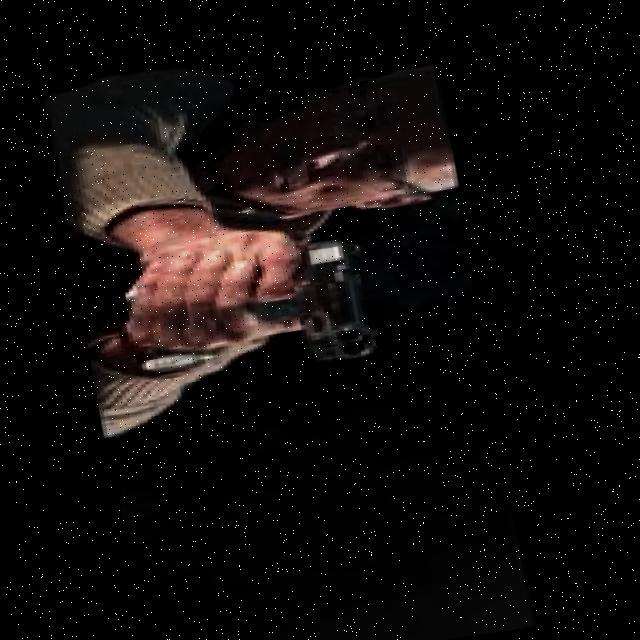pistol: (232, 223, 394, 375)
